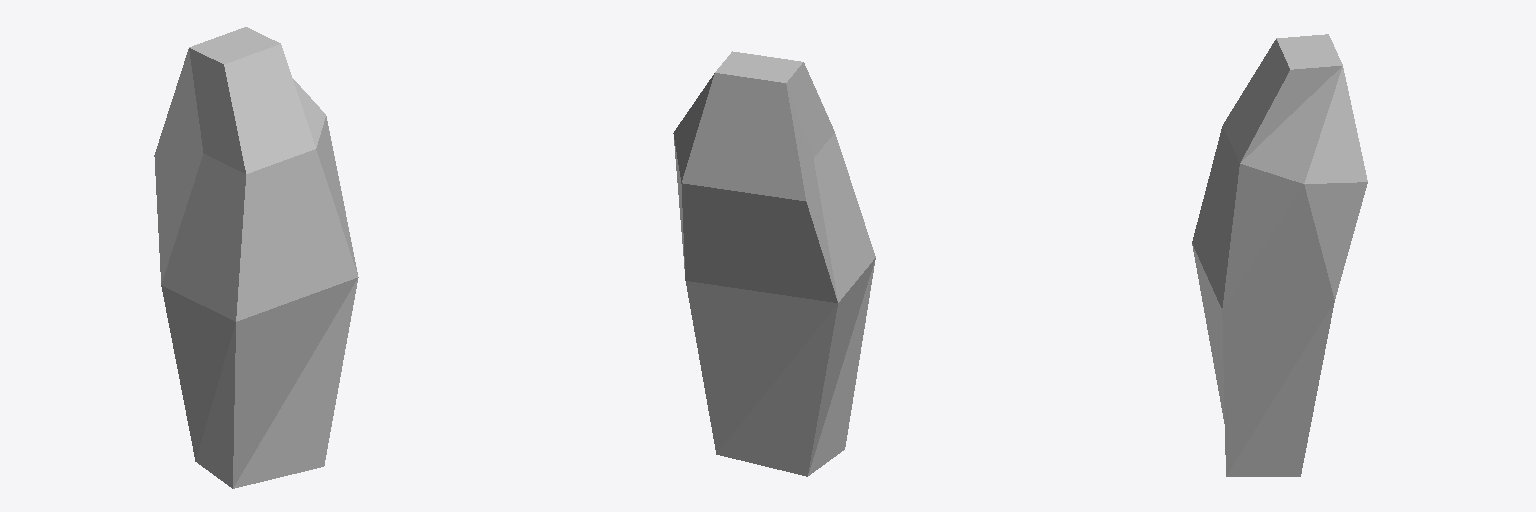
The model's file is Pillar3.obj.
The picture shows the model from 3 angles: view 1: azimuth 30°, elevation 25°; view 2: azimuth 150°, elevation 25°; view 3: azimuth 270°, elevation 25°; orthographic projection.
Parts seen in each view (by area): view 1: Pillar3; view 2: Pillar3; view 3: Pillar3.
Part boxes in pixels (x1,y1,x2,y2): Pillar3: (154,27,358,488); Pillar3: (673,51,875,476); Pillar3: (1192,34,1367,476).
Size of the model in its own units: 5.38 by 12.52 by 4.97.